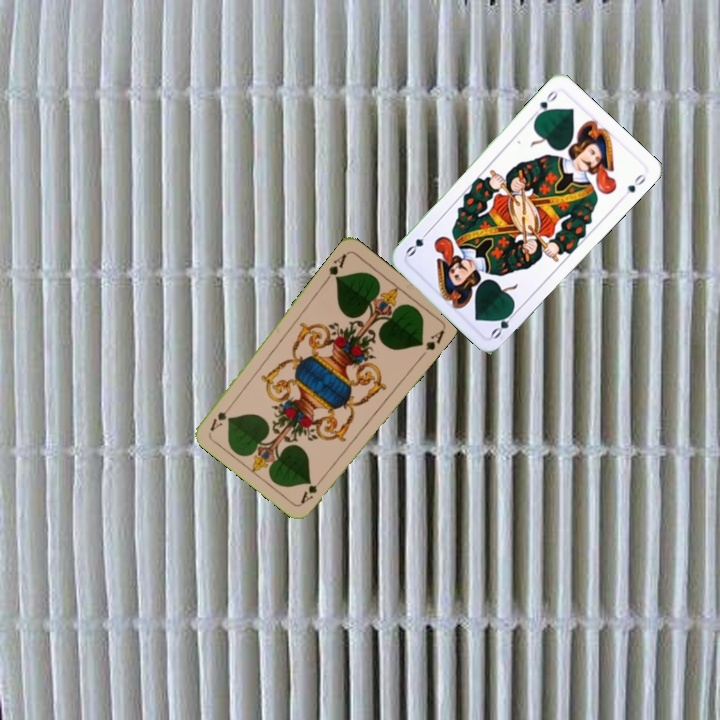GA: (296, 472, 327, 506), (321, 249, 349, 285)
GO: (487, 305, 520, 341), (529, 86, 561, 121)
